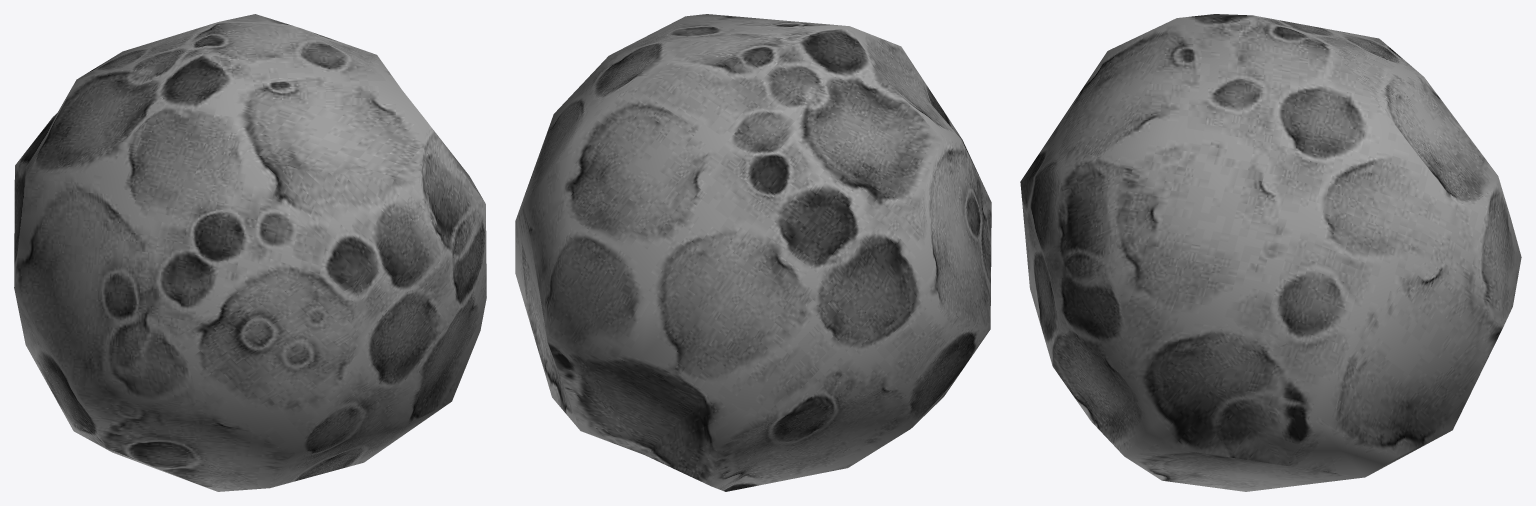
Rendered from rock_baked.glb.
The picture shows the model from 3 angles, left to right: view 1: azimuth 30°, elevation 25°; view 2: azimuth 150°, elevation 25°; view 3: azimuth 270°, elevation 25°; orthographic projection. The views are drawn at different scales.
Parts seen in each view (by area): view 1: RockLo; view 2: RockLo; view 3: RockLo.
Part boxes in pixels (left/top/right/bottom): RockLo: left=14, top=14, right=486, bottom=491; RockLo: left=515, top=14, right=991, bottom=491; RockLo: left=1020, top=14, right=1521, bottom=491.
Bounding box in the file's own units: 0.5348 × 0.5136 × 0.5423.
1 material, 1 textured.
